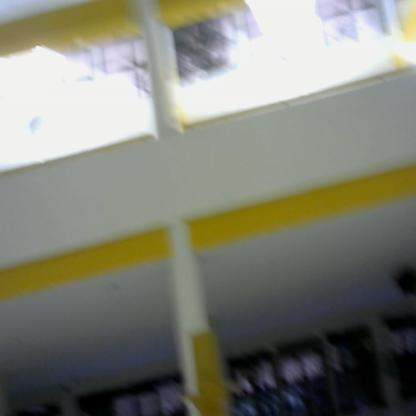pole: (176, 326, 241, 416)
